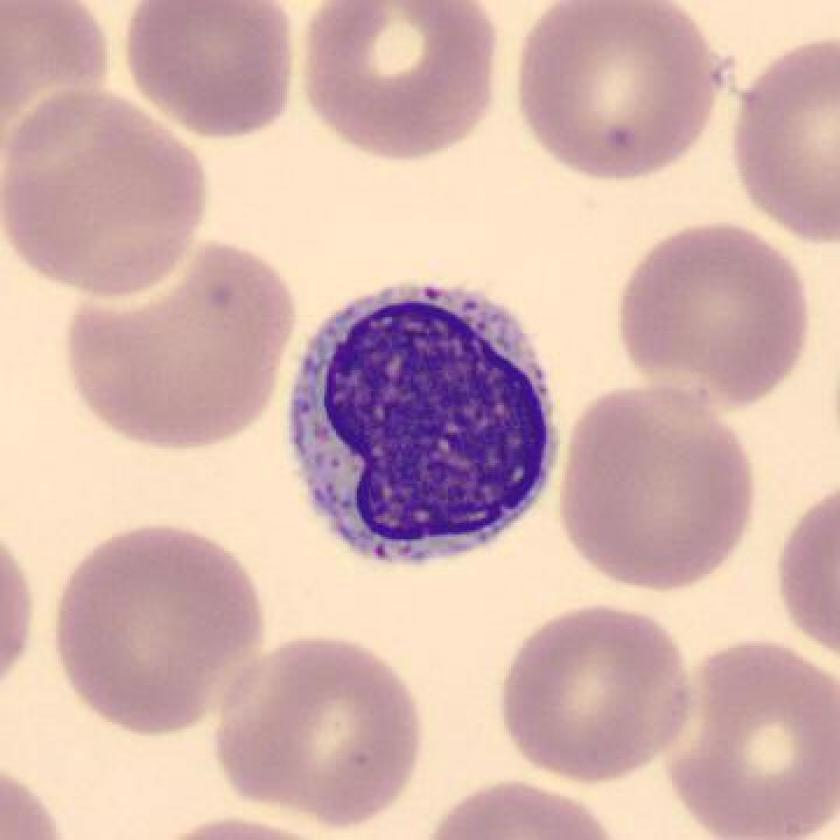lymphocyte: (274, 272, 568, 580)
